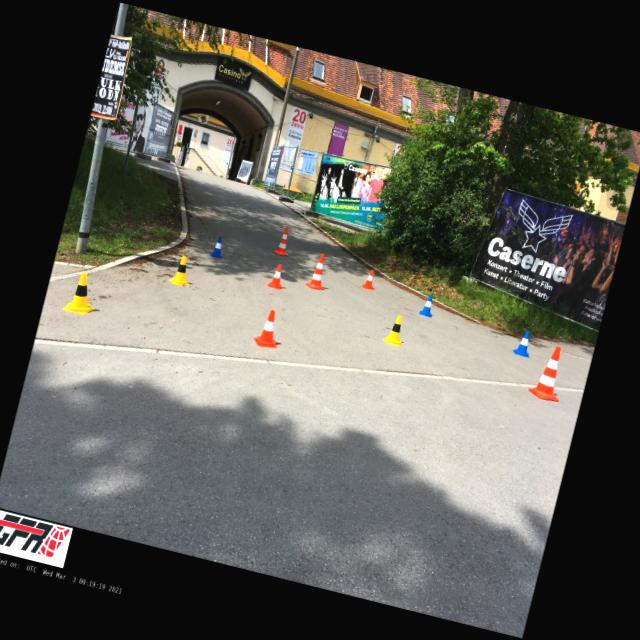blue_cone: (512, 328, 536, 358), (209, 235, 227, 259), (419, 293, 436, 317)
large_orange_cone: (526, 342, 570, 403), (305, 251, 332, 291), (272, 225, 294, 257)
orange_cone: (252, 308, 285, 350), (267, 262, 288, 290), (362, 268, 378, 290)
yellow_cone: (62, 269, 102, 316), (382, 312, 409, 347), (168, 253, 195, 287)
